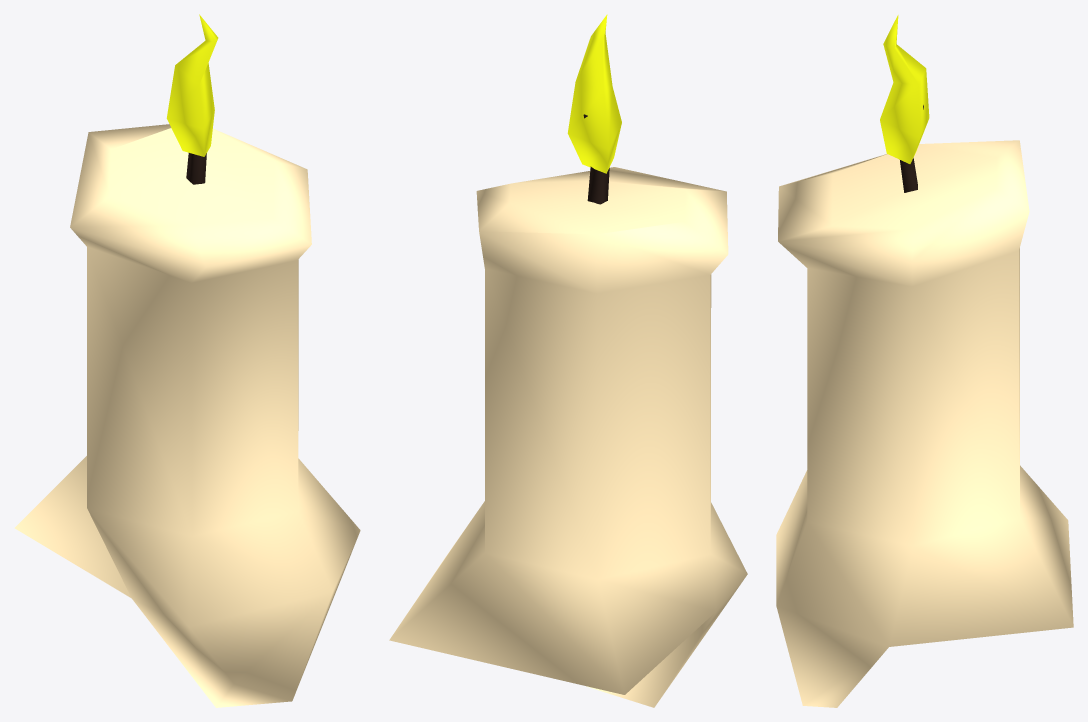
File: CandleShapeE.013.glb
3 renders of one model, left to right at view 1: azimuth 30°, elevation 25°; view 2: azimuth 150°, elevation 25°; view 3: azimuth 270°, elevation 25°, orthographic. The views are drawn at different scales.
Parts seen in each view (by area): view 1: CandleShapeE.013; view 2: CandleShapeE.013; view 3: CandleShapeE.013.
Part boxes in pixels (left/top/right/bottom): CandleShapeE.013: left=14, top=14, right=360, bottom=707; CandleShapeE.013: left=389, top=14, right=747, bottom=707; CandleShapeE.013: left=776, top=15, right=1073, bottom=707.
Bounding box in the file's own units: 0.1424 × 0.327 × 0.1308.
Materials: 2 (2 with a texture image).
